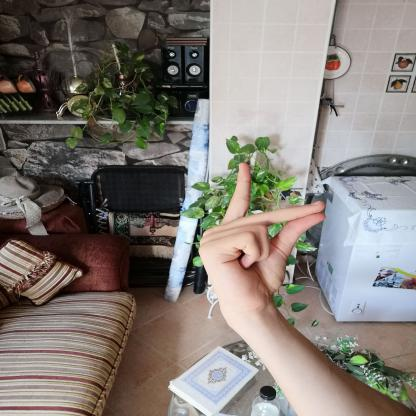TAA: (187, 155, 334, 326)
